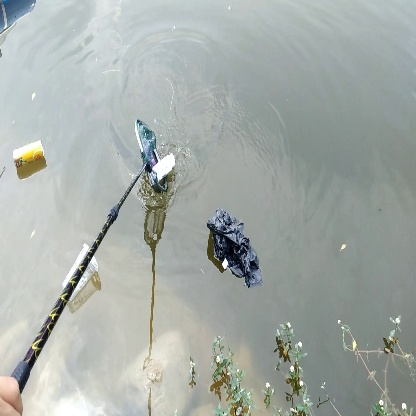bottle: (11, 138, 49, 172)
plastic-bag: (205, 206, 266, 290)
